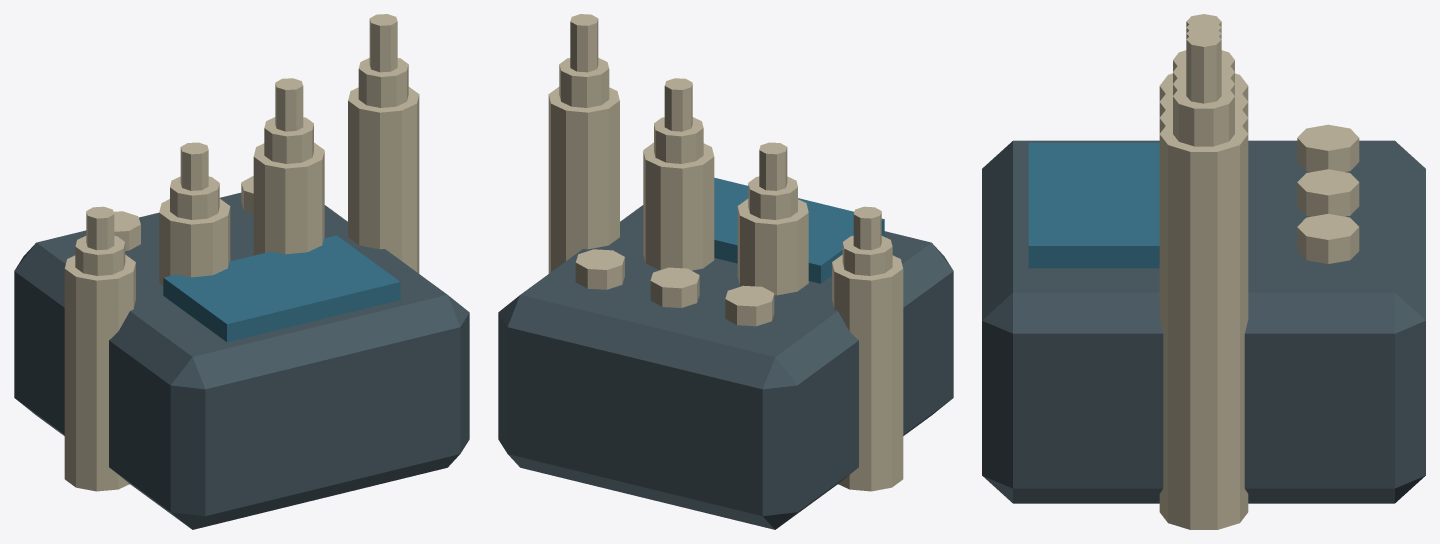
Rendered from set_test_tube_rack.glb.
The picture shows the model from 3 angles, left to right: view 1: azimuth 30°, elevation 25°; view 2: azimuth 150°, elevation 25°; view 3: azimuth 270°, elevation 25°; orthographic projection. The views are drawn at different scales.
Parts seen in each view (by area): view 1: set_test_tube_rack; view 2: set_test_tube_rack; view 3: set_test_tube_rack.
Boxes of the visible parts, bbox=[...] form: set_test_tube_rack: bbox=[14, 14, 469, 529]; set_test_tube_rack: bbox=[498, 14, 953, 529]; set_test_tube_rack: bbox=[982, 14, 1425, 529].
Size of the model in its own units: 0.218 by 0.235 by 0.2.
